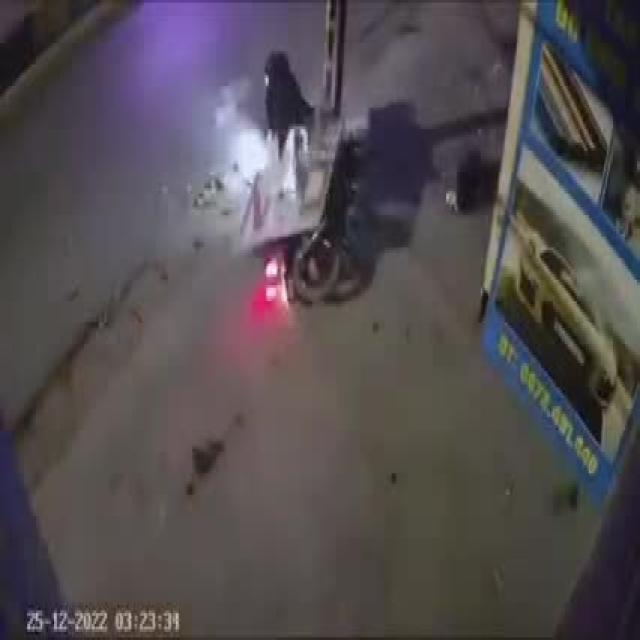single accident: (205, 38, 380, 320)
